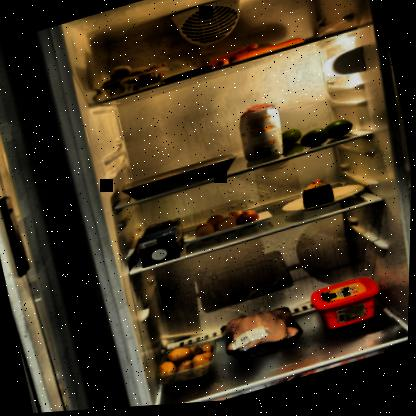butter: (306, 275, 388, 342)
carrot: (202, 32, 308, 75)
cheese: (298, 178, 341, 216)
chicken: (218, 301, 308, 372)
chocolate: (163, 66, 217, 86)
eggs: (192, 203, 264, 246)
lime: (277, 115, 357, 160)
milk: (134, 217, 191, 269)
mushrooms: (97, 53, 173, 104)
potato: (152, 337, 225, 393)
